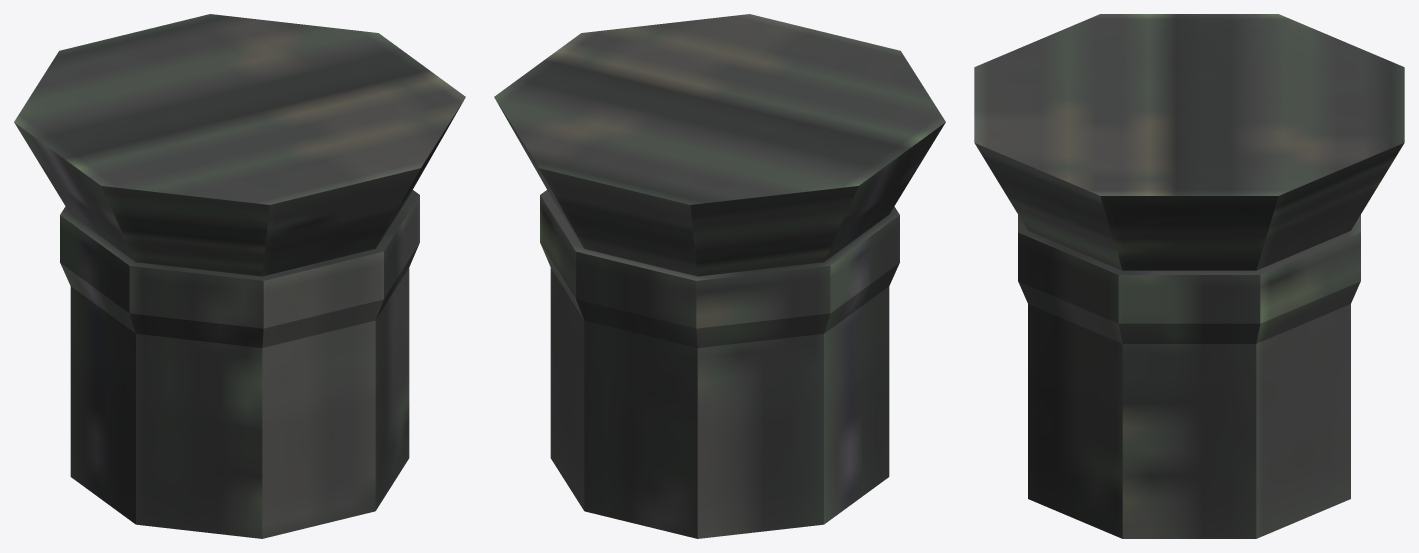
Rendered from enemy_torso.obj.
3 views of the same model, side by side, from view 1: azimuth 30°, elevation 25°; view 2: azimuth 150°, elevation 25°; view 3: azimuth 270°, elevation 25° (orthographic). The views are drawn at different scales.
Visible parts, largest first — view 1: cylinder; view 2: cylinder; view 3: cylinder.
Boxes of the visible parts, x1,y1,x2,y2 form: cylinder: (14, 14, 465, 538); cylinder: (494, 14, 945, 538); cylinder: (974, 14, 1404, 538).
Size of the model in its own units: 0.5 by 0.4688 by 0.5.
1 material, 1 textured.
